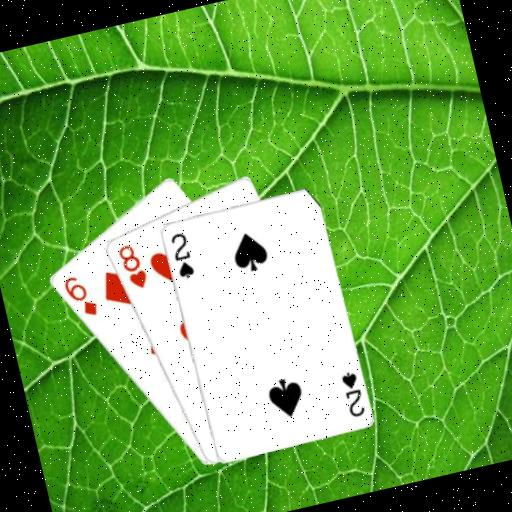2S: (166, 228, 197, 282), (337, 367, 368, 421)
6D: (59, 269, 101, 322)
8H: (113, 239, 151, 294)
